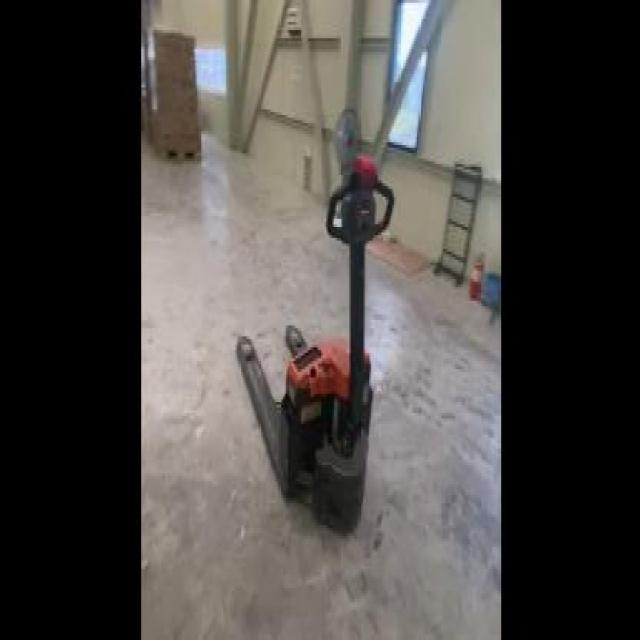box: (143, 30, 203, 159)
robot: (230, 159, 382, 544)
